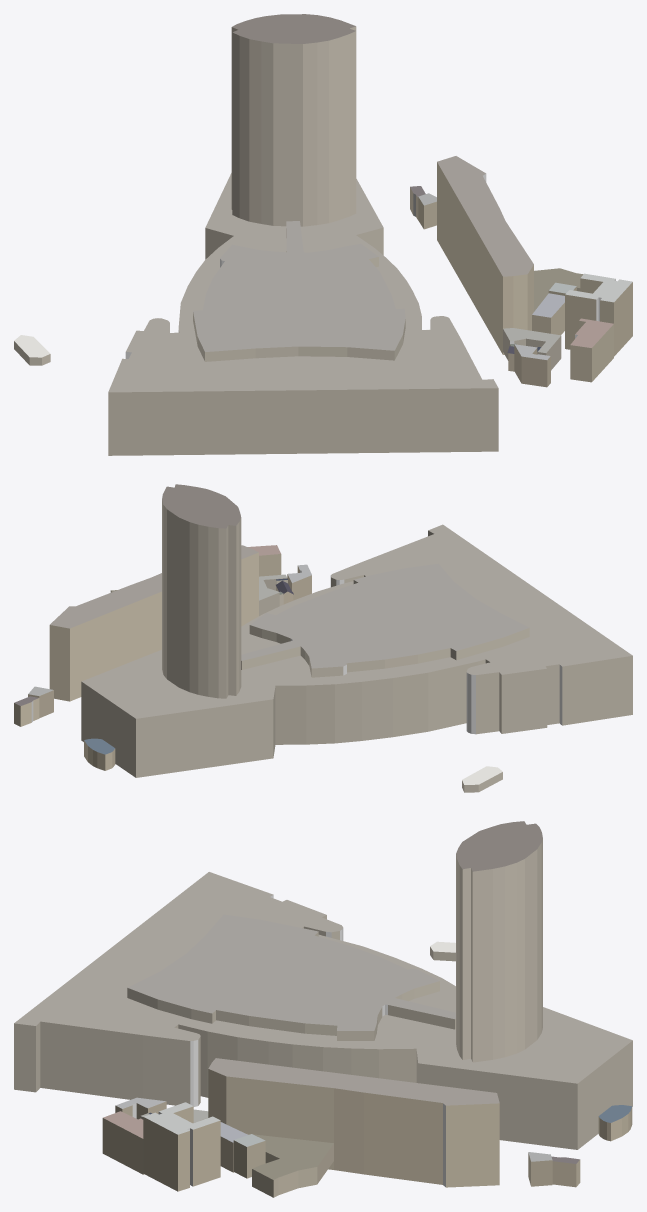
3 views of the same model, one above another, from view 1: azimuth 30°, elevation 25°; view 2: azimuth 150°, elevation 25°; view 3: azimuth 270°, elevation 25° (orthographic). The views are drawn at different scales.
Parts seen in each view (by area): view 1: tuile; view 2: tuile; view 3: tuile.
Part boxes in pixels (x1,y1,x2,y2): tuile: (14,14,632,455); tuile: (14,484,632,792); tuile: (14,821,632,1197).
Bounding box in the file's own units: 272 × 121 × 263.
